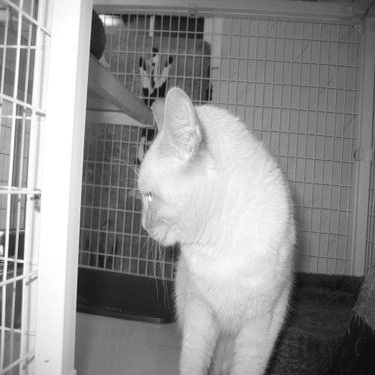cat: (94, 77, 323, 364)
